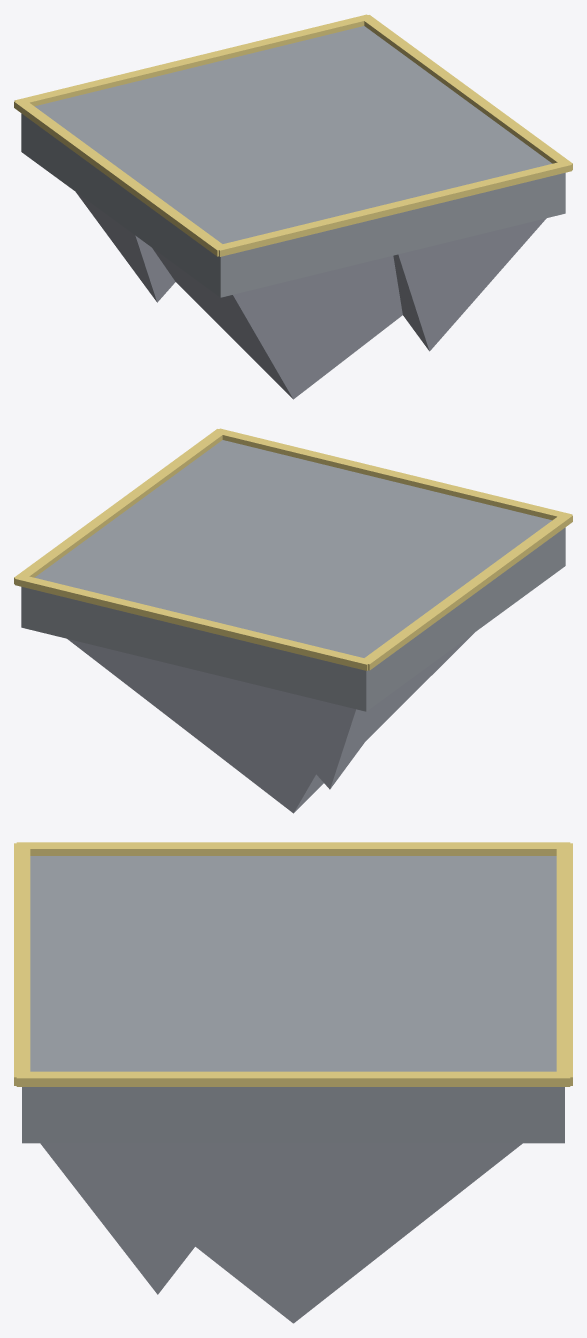
The model's file is floating_island_base.glb.
3 renders of one model, top to bottom at view 1: azimuth 30°, elevation 25°; view 2: azimuth 150°, elevation 25°; view 3: azimuth 270°, elevation 25°, orthographic. The views are drawn at different scales.
Visible parts, largest first — view 1: RootNode; view 2: RootNode; view 3: RootNode.
Part boxes in pixels (left/top/right/bottom): RootNode: left=14, top=14, right=572, bottom=399; RootNode: left=14, top=428, right=572, bottom=813; RootNode: left=14, top=842, right=572, bottom=1323.
Bounding box in the file's own units: 20.6 × 14.77 × 20.6.
